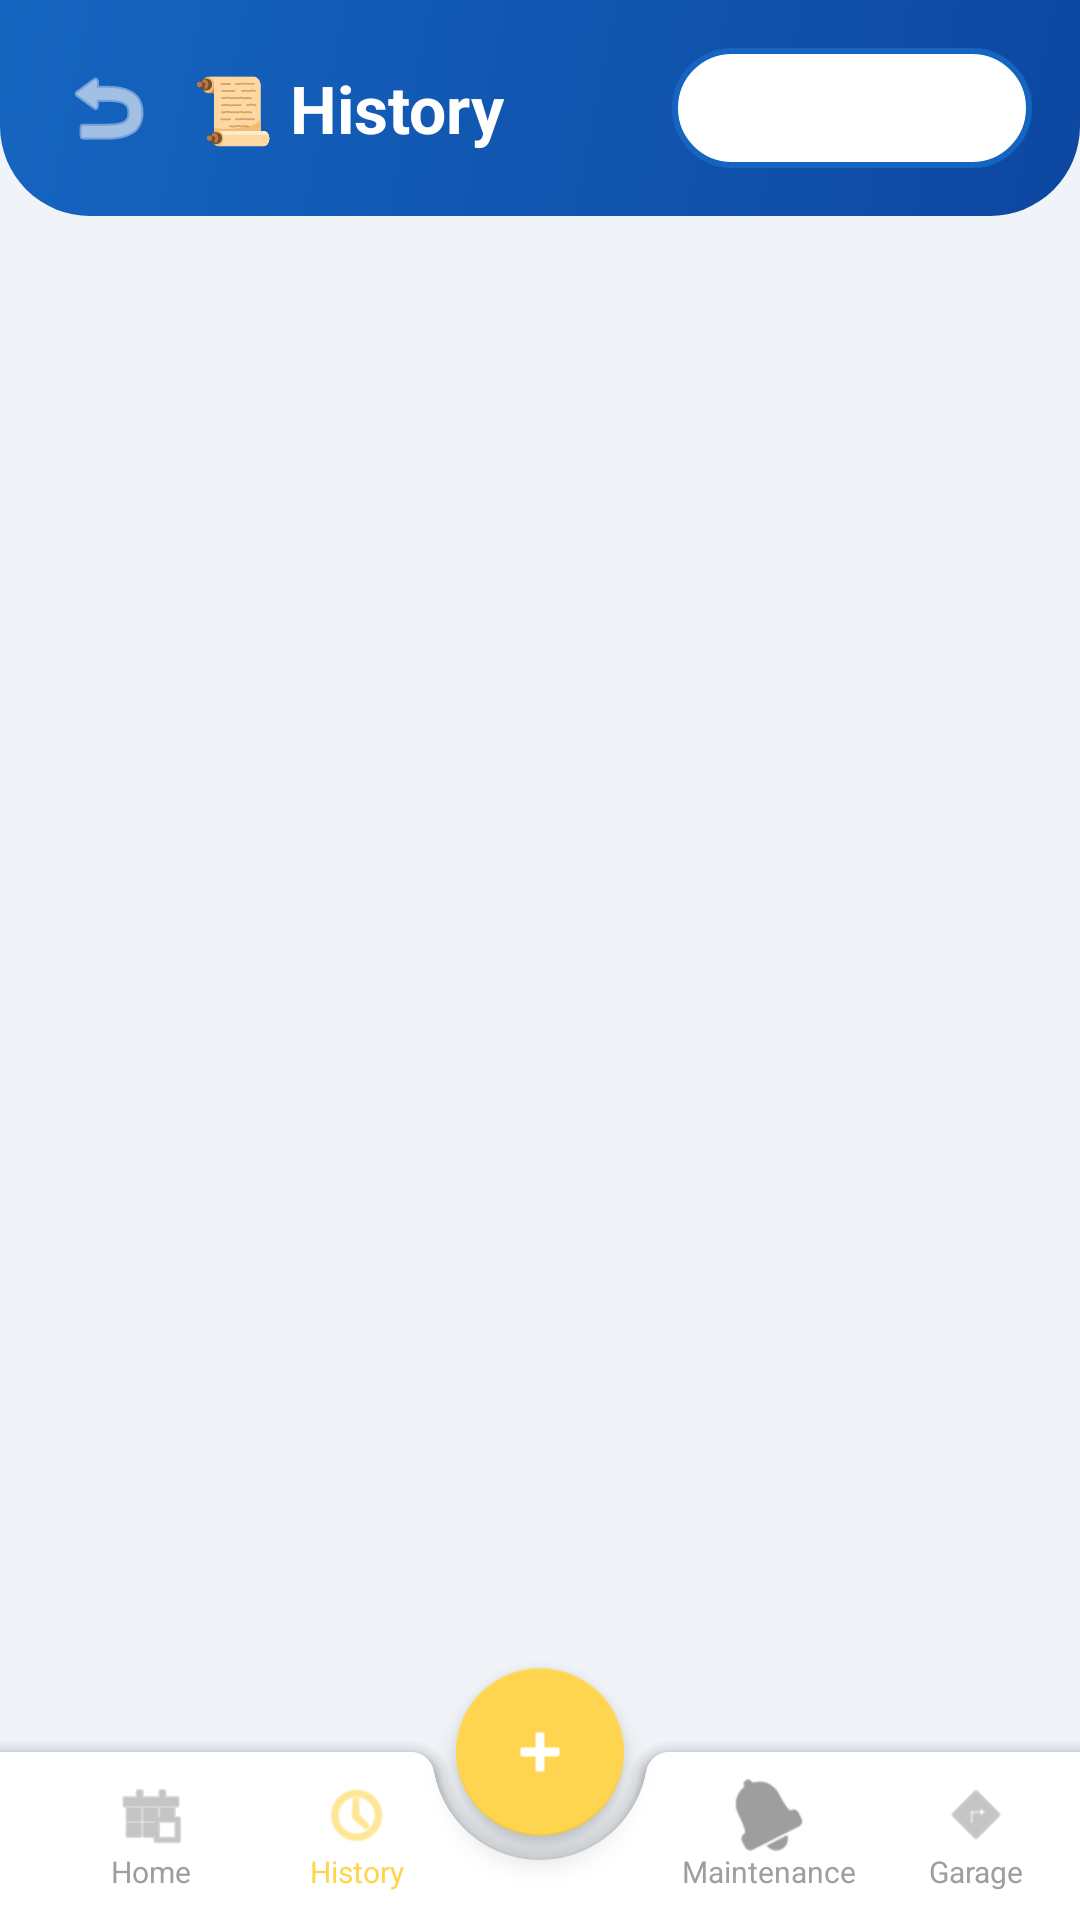

Named icons in this screenshot (1080w x 1920h) and their centers, [x,y]:
add: [540,1752]
Back: [109,108]
directions: [976,1814]
popup reminder: [769,1815]
today: [152,1816]
